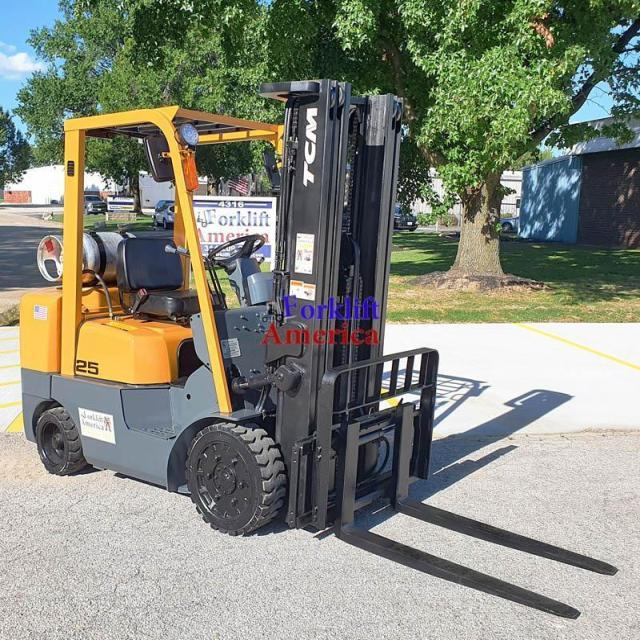forklift: (6, 59, 485, 554)
